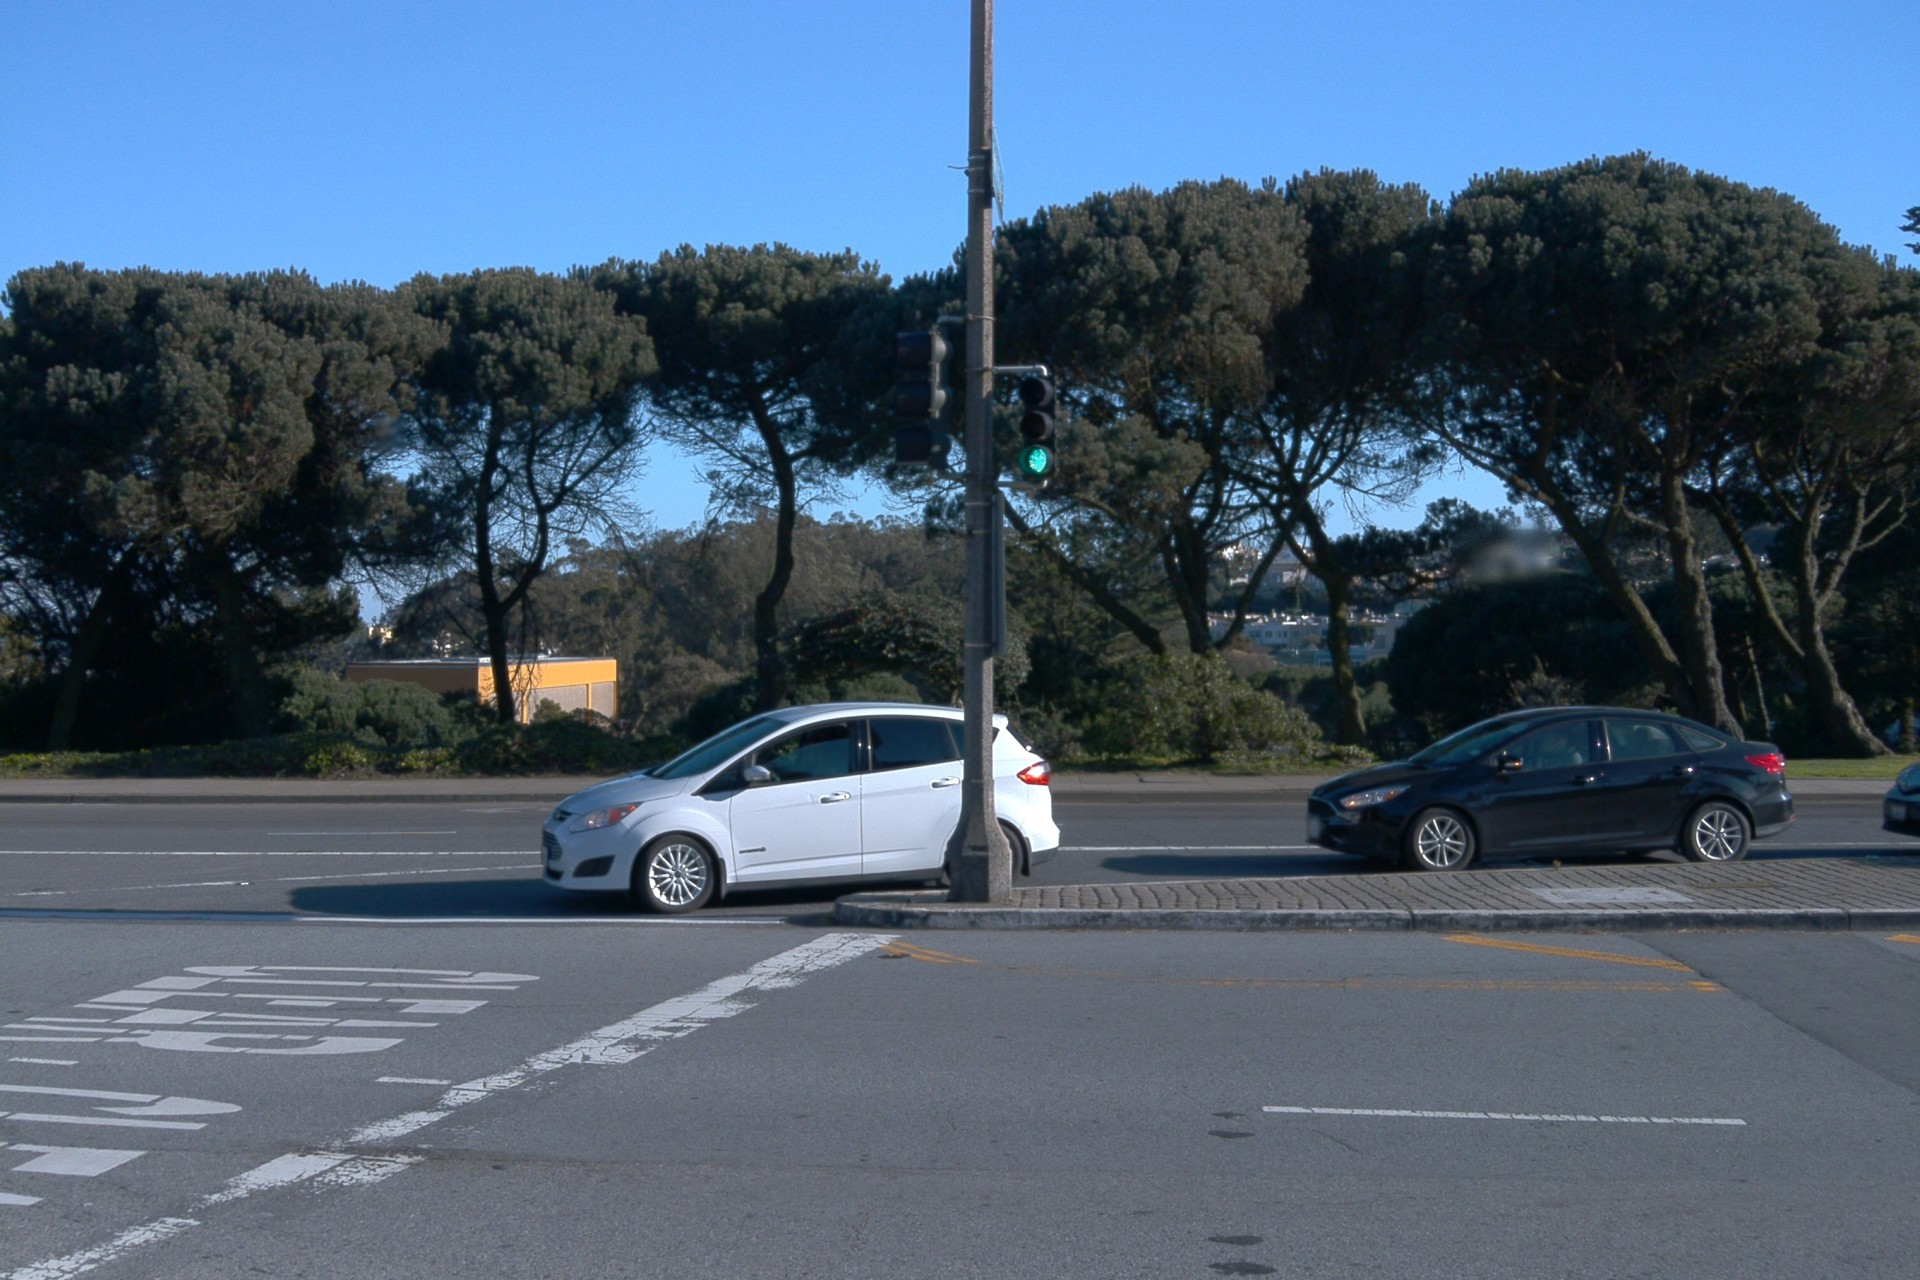TYPE_VEHICLE: (536, 698, 1062, 916), (1304, 706, 1796, 875), (1879, 760, 1920, 839)
